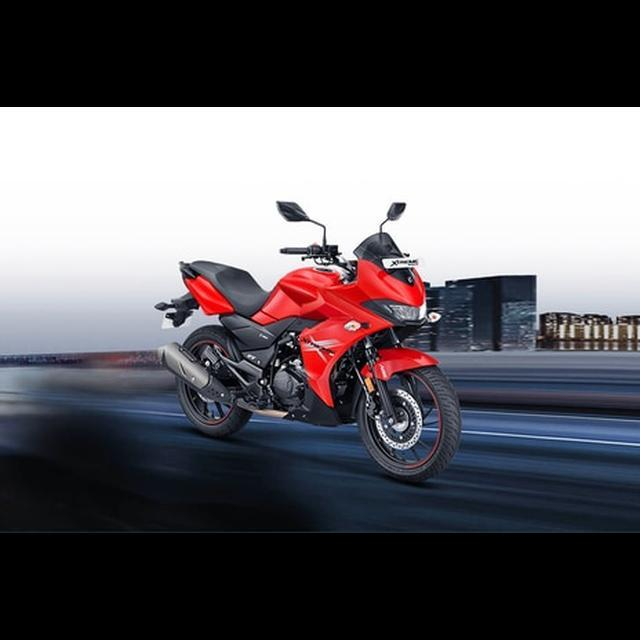motorcycle: (149, 191, 471, 490)
